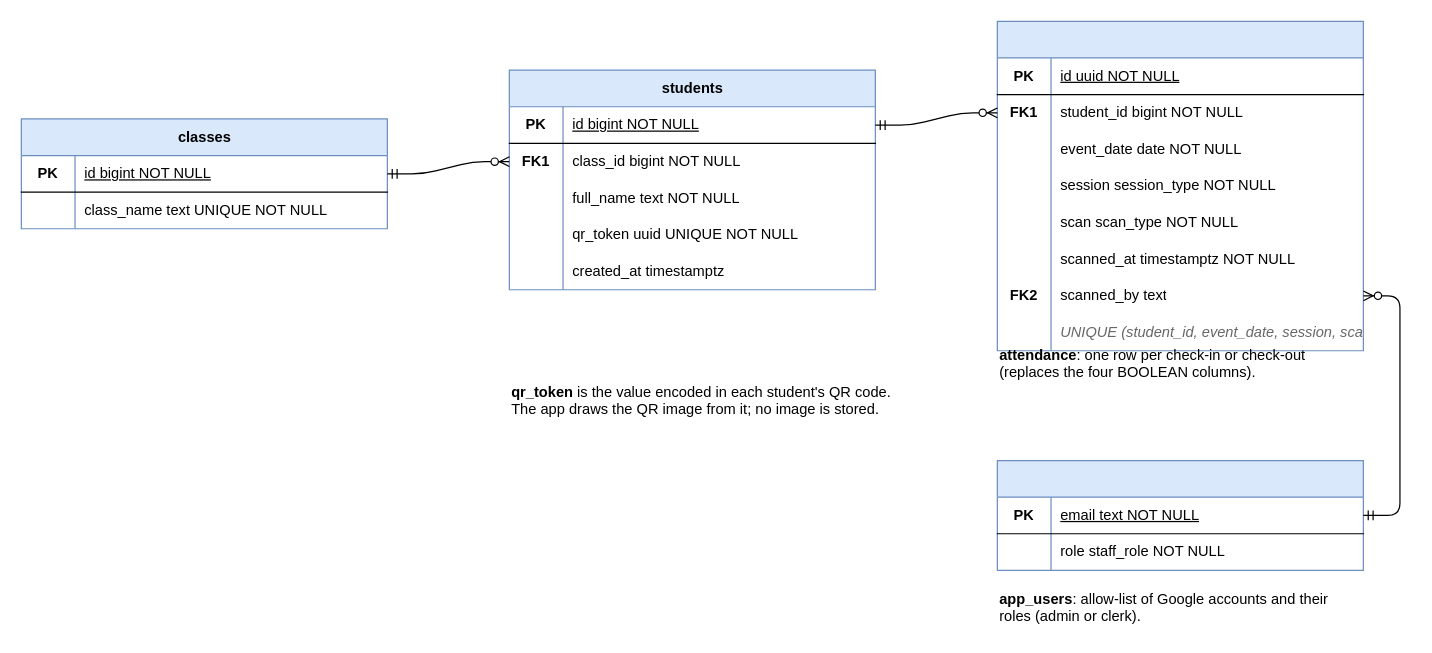
This 1432x653 diagram has some shape labels left out. The shapes that lost their labels are listed below. From the top down, each one's box as (x1, y1, x2, y2) in pixels, then its label:
(996, 20, 1363, 351): attendance
(996, 459, 1363, 570): app_users
